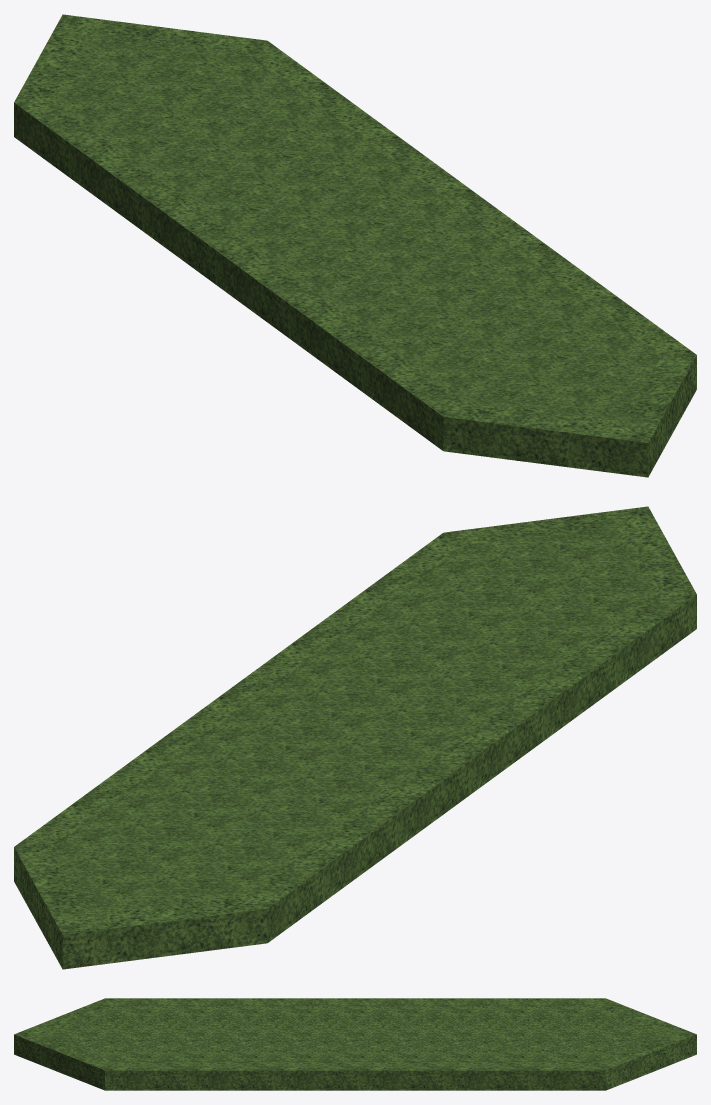
Rendered from SM_Morin_Aiuola_Bosso_LOD2.fbx.
3 views of the same model, one above another, from view 1: azimuth 30°, elevation 25°; view 2: azimuth 150°, elevation 25°; view 3: azimuth 270°, elevation 25° (orthographic). The views are drawn at different scales.
Visible parts, largest first — view 1: SM_Morin_Aiuola_Bosso_LOD2; view 2: SM_Morin_Aiuola_Bosso_LOD2; view 3: SM_Morin_Aiuola_Bosso_LOD2.
Boxes of the visible parts, x1=… form: SM_Morin_Aiuola_Bosso_LOD2: x1=14, y1=14, x2=696, y2=477; SM_Morin_Aiuola_Bosso_LOD2: x1=14, y1=506, x2=696, y2=969; SM_Morin_Aiuola_Bosso_LOD2: x1=14, y1=998, x2=696, y2=1090.
Size of the model in its own units: 300 by 1200 by 39.
Materials: 1 (1 with a texture image).
